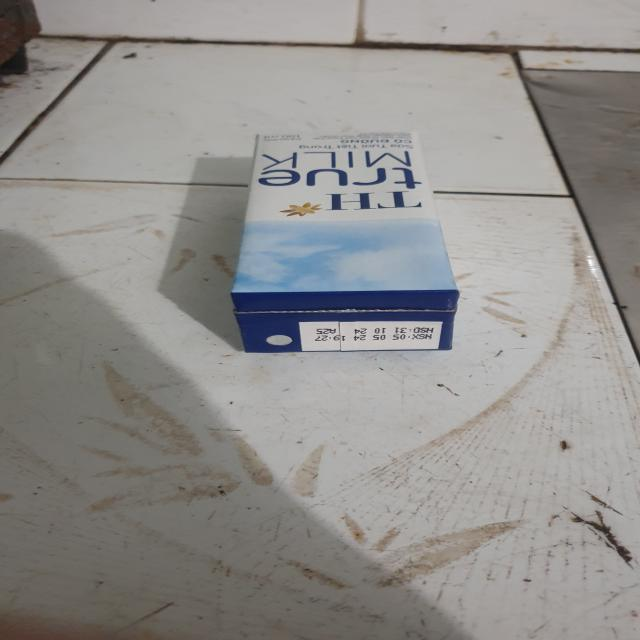TH: (225, 128, 467, 359)
